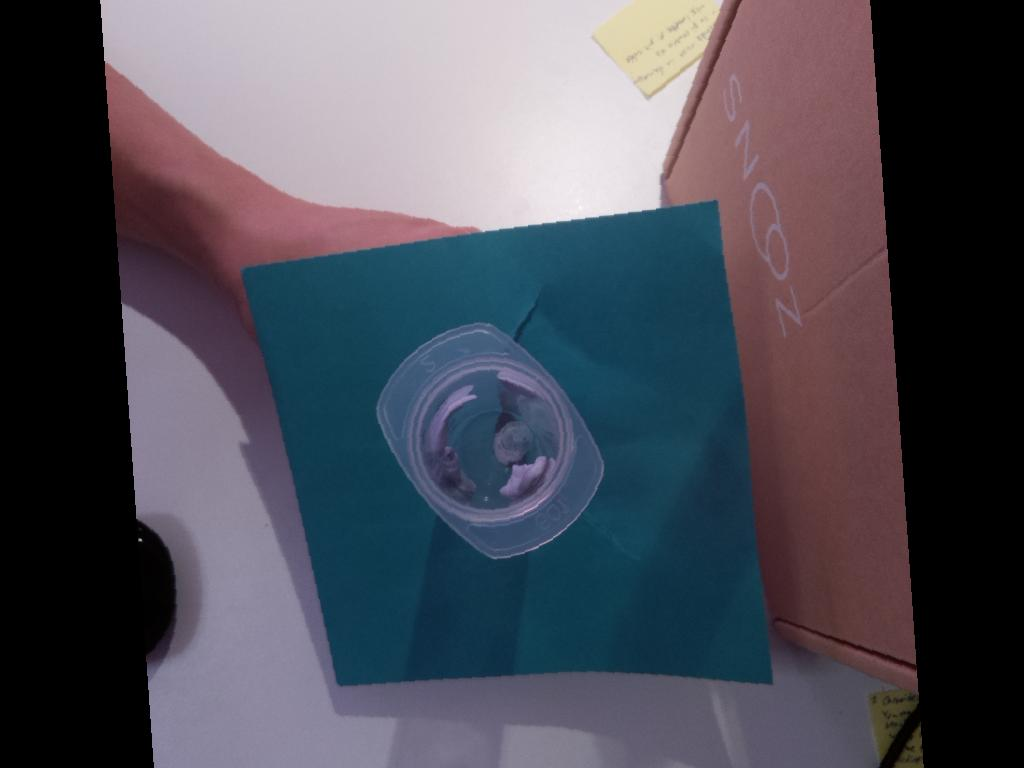dirty: (376, 322, 604, 559)
